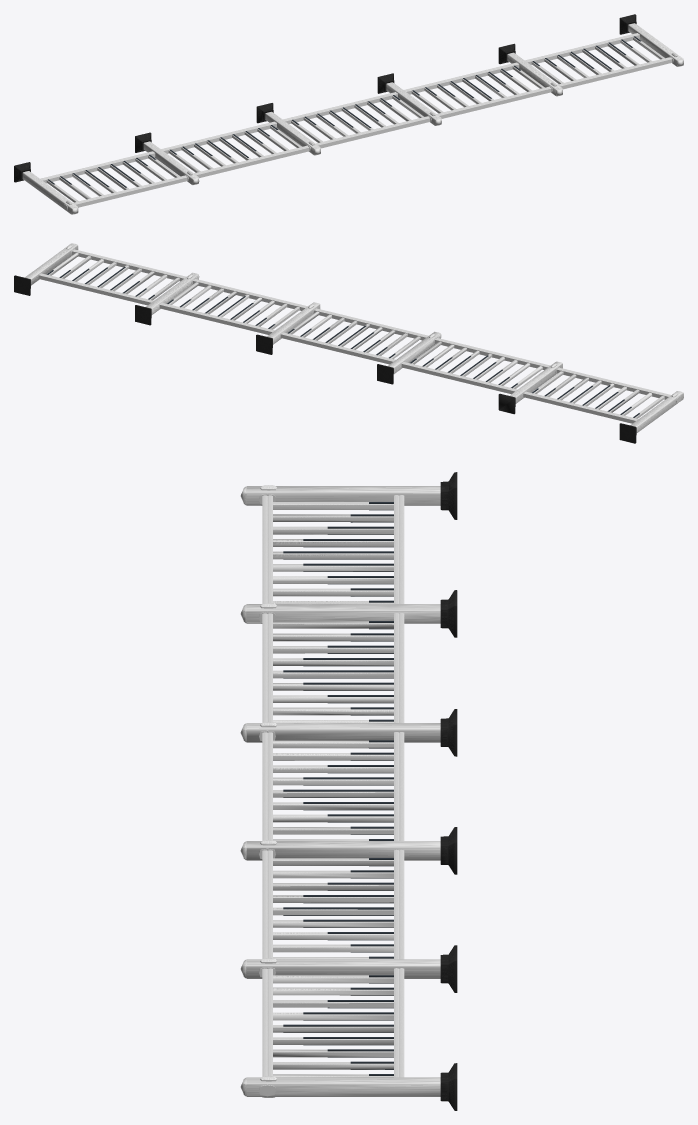
Rendered from luzhang.glb.
The picture shows the model from 3 angles, top to bottom: view 1: azimuth 30°, elevation 25°; view 2: azimuth 150°, elevation 25°; view 3: azimuth 270°, elevation 25°; orthographic projection. The views are drawn at different scales.
Parts seen in each view (by area): view 1: Box113; view 2: Box113; view 3: Box113.
Part boxes in pixels (bbox=[...]): Box113: bbox=[14, 14, 683, 214]; Box113: bbox=[14, 243, 683, 443]; Box113: bbox=[240, 472, 457, 1110].
Size of the model in its own units: 9.49 by 0.241 by 1.43.
Materials: 4 (4 with a texture image).
